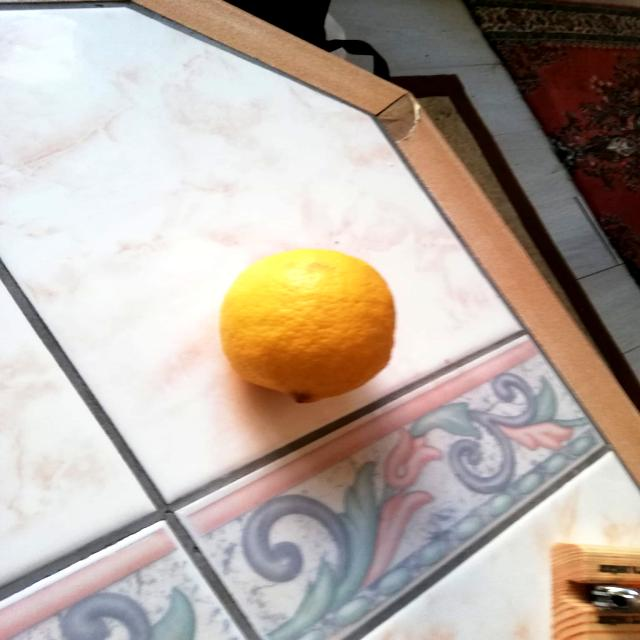lemon: (211, 236, 404, 410)
